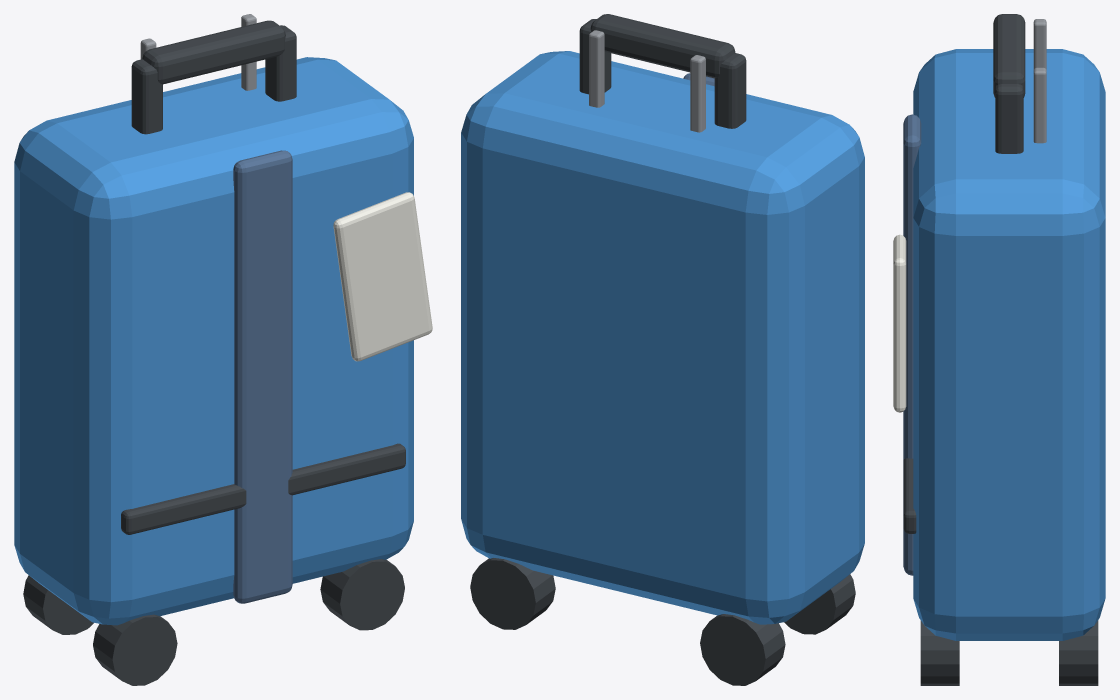
Rendered from npc-blue.glb.
The picture shows the model from 3 angles, left to right: view 1: azimuth 30°, elevation 25°; view 2: azimuth 150°, elevation 25°; view 3: azimuth 270°, elevation 25°; orthographic projection.
Parts seen in each view (by area): view 1: Shell, Strap, Tag, LowerBand, HandleTop, Wheel, Wheel.002, HandlePost, Wheel.001, HandlePost.001; view 2: Shell, HandleTop, Wheel.001, Wheel.003, HandlePost, Wheel, Rail.001, Rail, HandlePost.001; view 3: Shell, Strap, Tag, HandleTop, Wheel.003, Wheel.002, HandlePost.001, Rail.001, LowerBand, Rail.
Part boxes in pixels (left/top/right/bottom): Shell: left=14, top=57, right=413, bottom=625; Strap: left=233, top=150, right=292, bottom=603; Tag: left=333, top=192, right=432, bottom=361; LowerBand: left=121, top=443, right=405, bottom=534; HandleTop: left=142, top=20, right=285, bottom=84; Wheel: left=93, top=614, right=177, bottom=685; Wheel.002: left=320, top=559, right=404, bottom=630; HandlePost: left=131, top=59, right=162, bottom=134; Wheel.001: left=23, top=575, right=93, bottom=634; HandlePost.001: left=265, top=25, right=296, bottom=101; Shell: left=461, top=51, right=864, bottom=624; HandleTop: left=590, top=14, right=735, bottom=78; Wheel.001: left=700, top=614, right=785, bottom=685; Wheel.003: left=470, top=558, right=555, bottom=629; HandlePost: left=714, top=53, right=746, bottom=128; Wheel: left=784, top=574, right=855, bottom=634; Rail.001: left=589, top=30, right=604, bottom=107; Rail: left=690, top=55, right=705, bottom=132; HandlePost.001: left=579, top=19, right=611, bottom=94; Shell: left=913, top=49, right=1105, bottom=640; Strap: left=903, top=114, right=921, bottom=575; Tag: left=893, top=234, right=906, bottom=412; HandleTop: left=993, top=14, right=1025, bottom=97; Wheel.003: left=1059, top=620, right=1098, bottom=685; Wheel.002: left=920, top=620, right=959, bottom=685; HandlePost.001: left=995, top=84, right=1023, bottom=153; Rail.001: left=1033, top=67, right=1046, bottom=143; LowerBand: left=903, top=458, right=916, bottom=533; Rail: left=1033, top=19, right=1046, bottom=69.
Size of the model in its own units: 1.08 by 1.81 by 0.5958.
